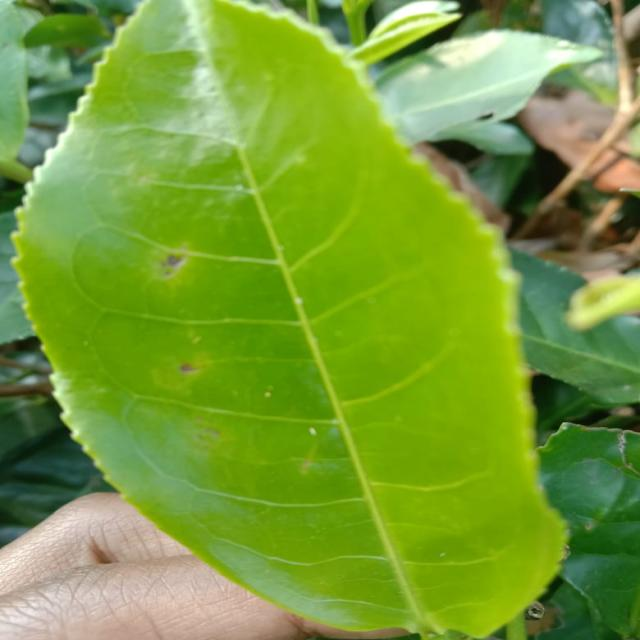Category B 2-4 days: (7, 0, 576, 640)
